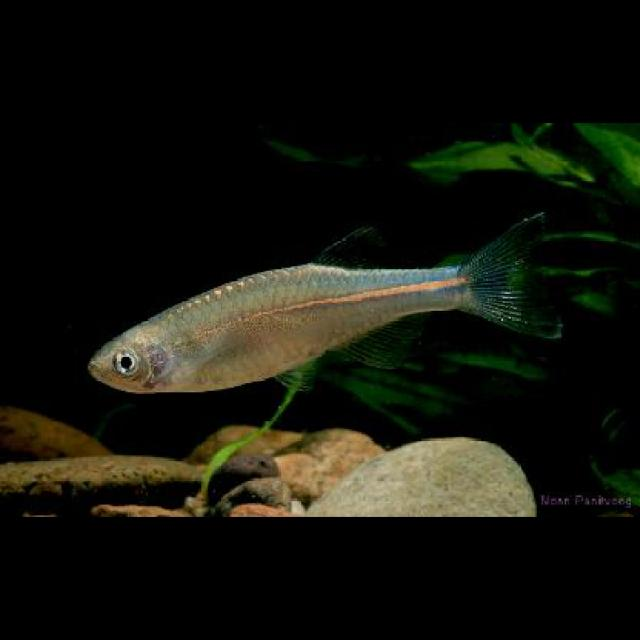ZebraFish: (90, 212, 556, 391)
